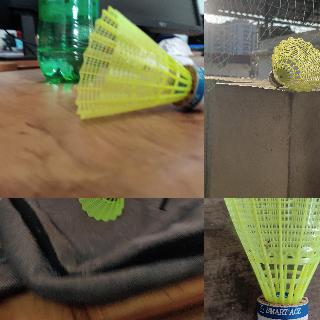shuttlecock: (74, 5, 203, 120), (216, 198, 319, 319), (268, 37, 319, 92), (79, 198, 130, 221)
